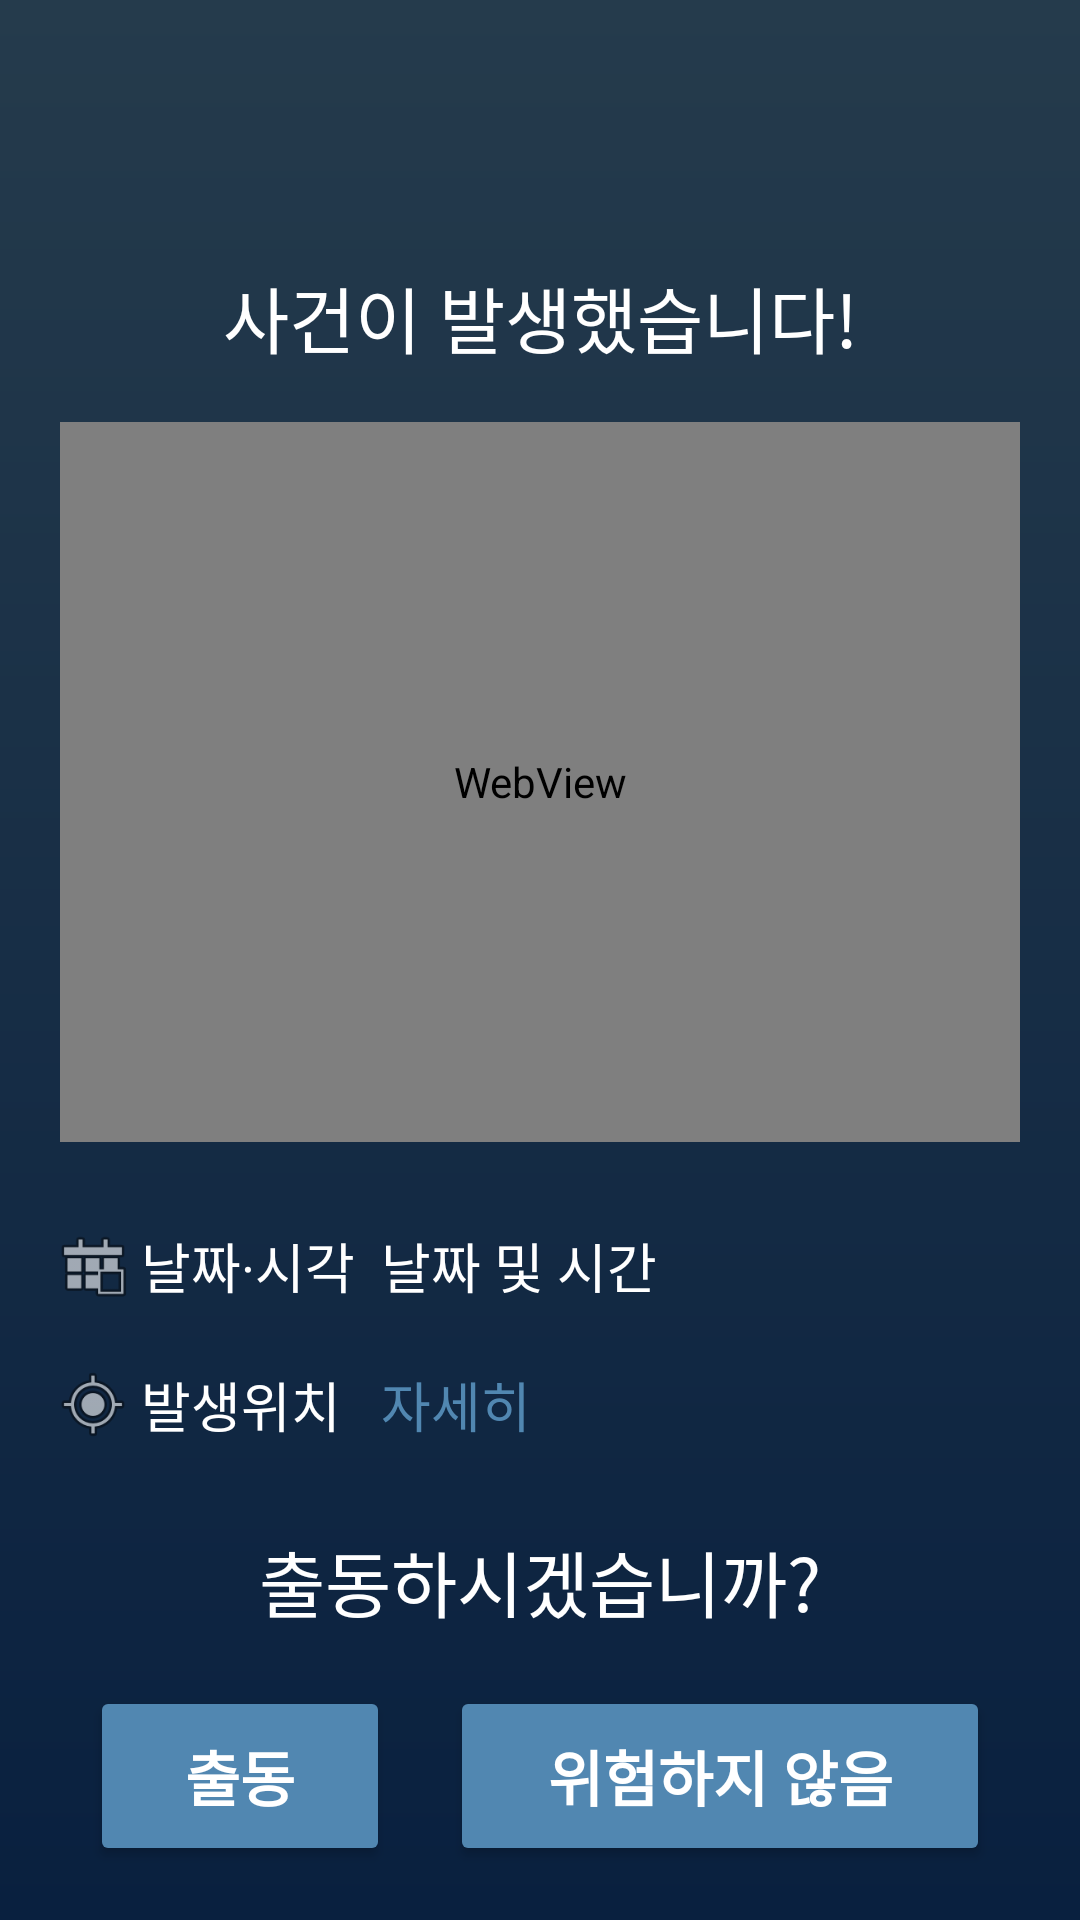

Icons on this 1080*1920 Android screen, each with its box as box(x1, y1, x2, y2):
발생날짜: box(62, 1238, 126, 1296)
